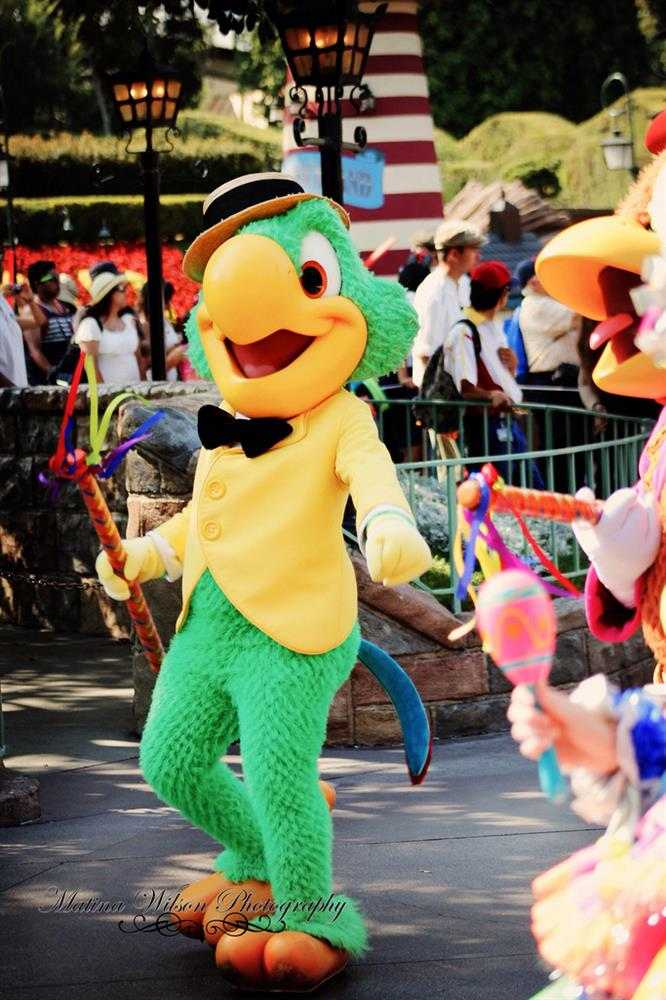Jose_Carioca: (87, 177, 442, 958)
